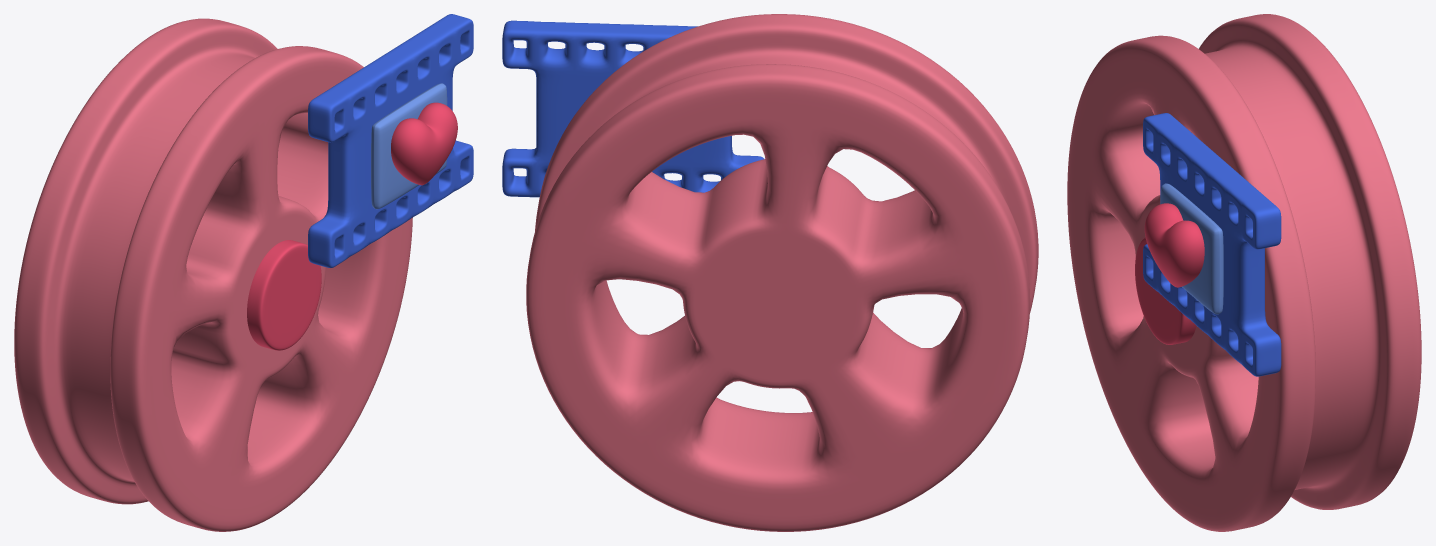
Rendered from movie-date-animated-icon-826375382152.glb.
The picture shows the model from 3 angles, left to right: view 1: azimuth 30°, elevation 25°; view 2: azimuth 150°, elevation 25°; view 3: azimuth 270°, elevation 25°; orthographic projection.
Parts seen in each view (by area): view 1: spool film, roll film, heart; view 2: spool film, roll film; view 3: spool film, roll film, heart.
Boxes of the visible parts, x1,y1,x2,y2 form: spool film: [14, 18, 412, 531]; roll film: [308, 14, 473, 267]; heart: [391, 102, 457, 185]; spool film: [526, 14, 1038, 531]; roll film: [502, 20, 764, 197]; spool film: [1067, 14, 1421, 531]; roll film: [1143, 113, 1281, 376]; heart: [1144, 203, 1204, 287].
Bounding box in the file's own units: 2.9 × 2.55 × 1.81.
